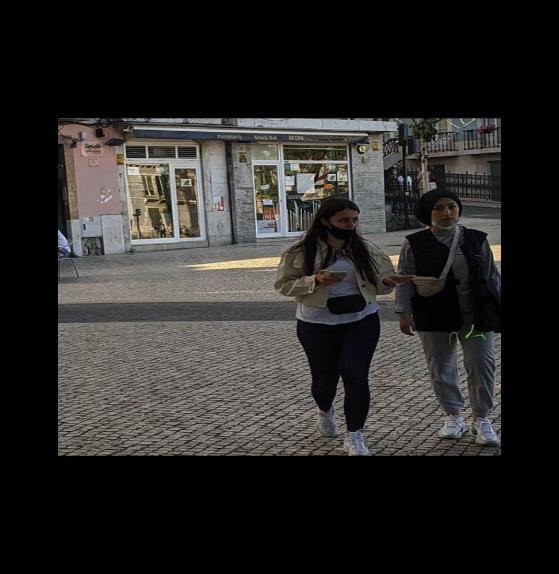mask_weared_incorrect: (429, 202, 461, 232), (329, 211, 362, 236)
